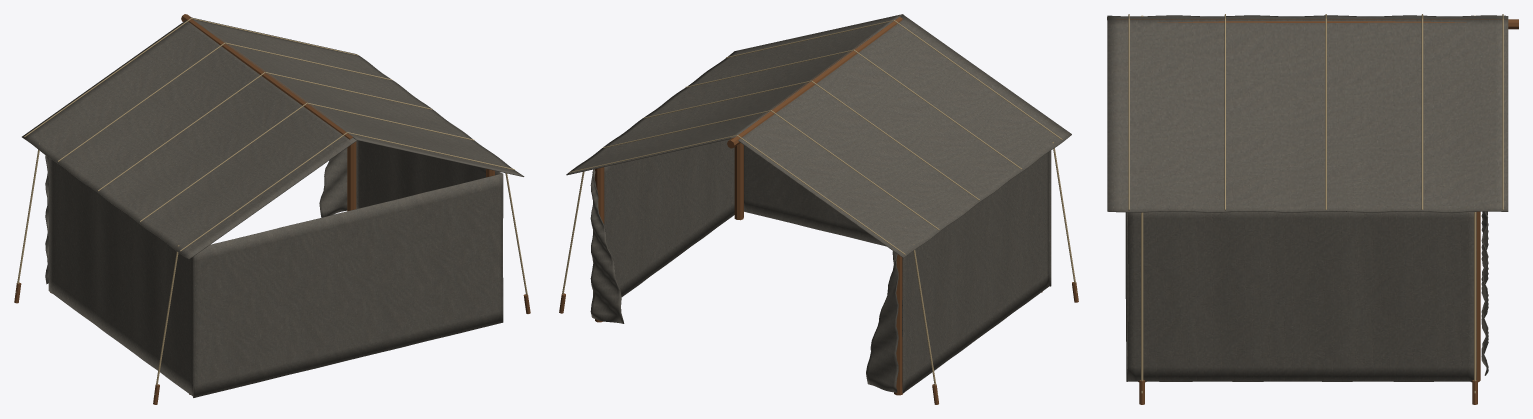
Rendered from FieldTent.fbx.
The picture shows the model from 3 angles, left to right: view 1: azimuth 30°, elevation 25°; view 2: azimuth 150°, elevation 25°; view 3: azimuth 270°, elevation 25°; orthographic projection. The views are drawn at different scales.
Visible parts, largest first — view 1: FieldTent; view 2: FieldTent; view 3: FieldTent.
Part boxes in pixels (x1=…): FieldTent: x1=14, y1=14, x2=530, y2=404; FieldTent: x1=559, y1=14, x2=1078, y2=404; FieldTent: x1=1107, y1=14, x2=1518, y2=404.
Size of the model in its own units: 596 by 349 by 470.
1 material, 1 textured.
